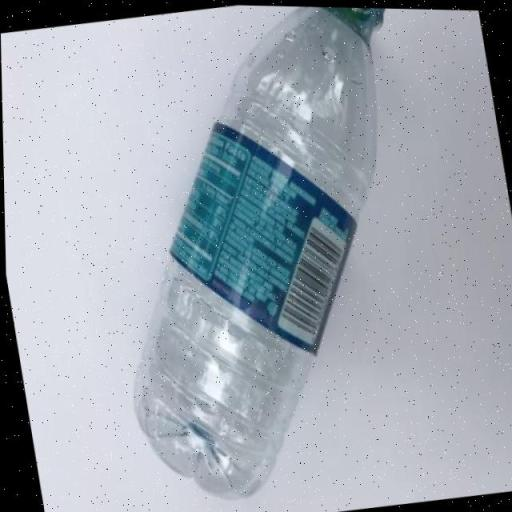plastic: (133, 5, 385, 494)
